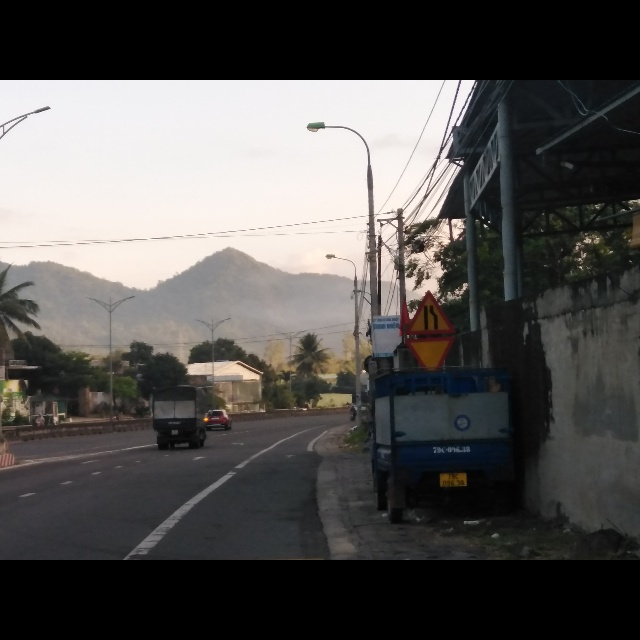Giao nhau với đường ưu tiên: (406, 338, 456, 372)
Đường bị hẹp bên phải: (406, 291, 455, 336)
